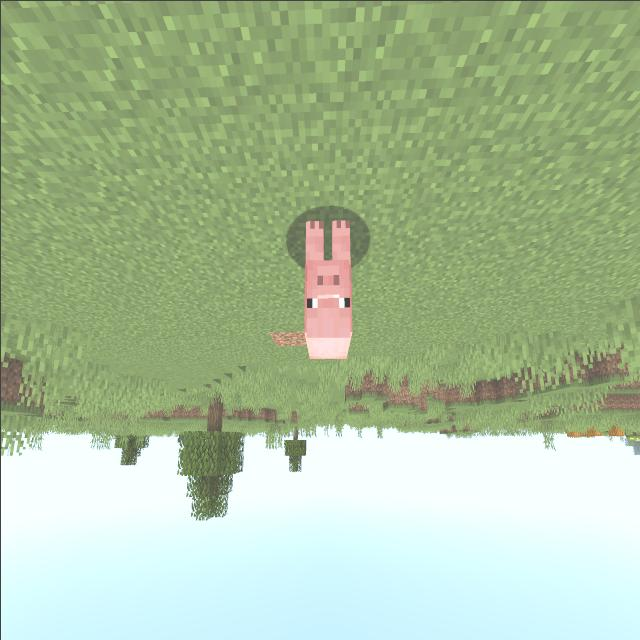pig: (294, 208, 358, 374)
